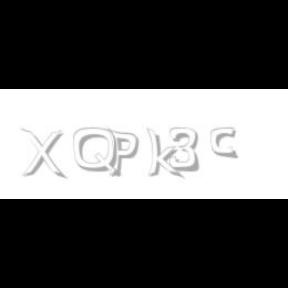3: (170, 128, 200, 172)
P: (107, 128, 139, 178)
Q: (73, 128, 119, 178)
X: (20, 128, 64, 180)
c: (210, 128, 240, 160)
k: (146, 128, 184, 180)
